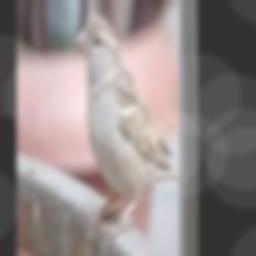Sparrow: (73, 14, 181, 248)
